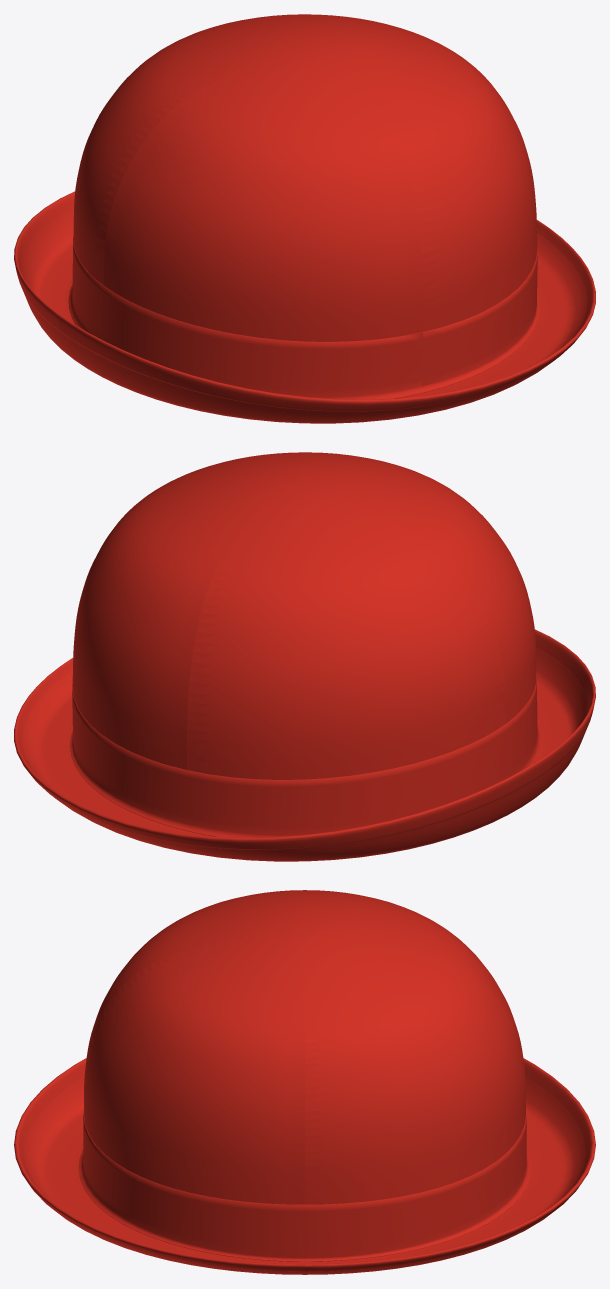
The model's file is hat-red.glb.
The picture shows the model from 3 angles, top to bottom: view 1: azimuth 30°, elevation 25°; view 2: azimuth 150°, elevation 25°; view 3: azimuth 270°, elevation 25°; orthographic projection. The views are drawn at different scales.
Visible parts, largest first — view 1: hat; view 2: hat; view 3: hat.
Part boxes in pixels (bbox=[...]): hat: bbox=[14, 14, 595, 423]; hat: bbox=[14, 452, 595, 861]; hat: bbox=[14, 890, 595, 1274].
Size of the model in its own units: 45.56 by 23.31 by 49.07.
Materials: 1 (1 with a texture image).
